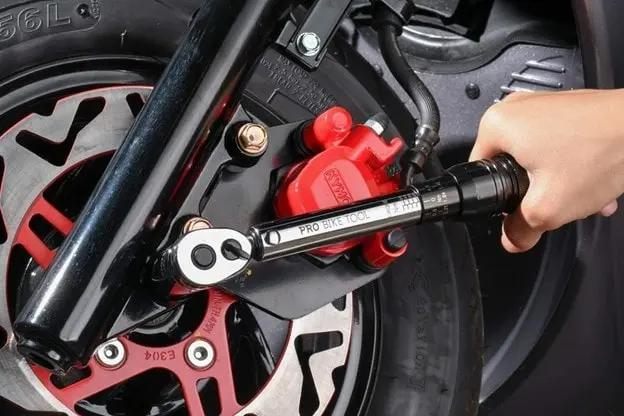Tool: (163, 225, 257, 288)
